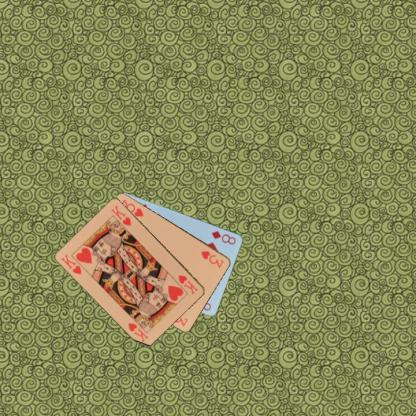3h: (199, 248, 225, 269)
8d: (209, 228, 237, 246)
Kh: (59, 251, 83, 276), (176, 272, 199, 296)
